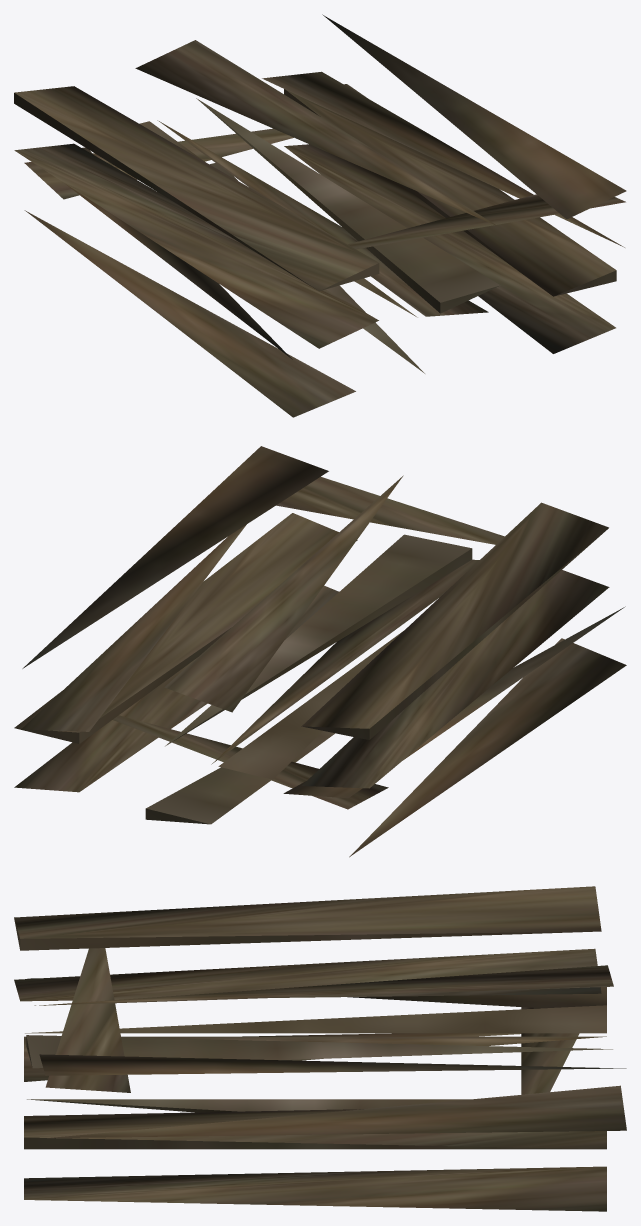
3 renders of one model, top to bottom at view 1: azimuth 30°, elevation 25°; view 2: azimuth 150°, elevation 25°; view 3: azimuth 270°, elevation 25°, orthographic. The views are drawn at different scales.
Parts seen in each view (by area): view 1: palet2; view 2: palet2; view 3: palet2.
Boxes of the visible parts, bbox=[...] form: palet2: bbox=[14, 14, 626, 417]; palet2: bbox=[14, 446, 626, 857]; palet2: bbox=[14, 886, 626, 1211].
Bounding box in the file's own units: 0.8778 × 0.3167 × 1.2.
Materials: 1 (1 with a texture image).
